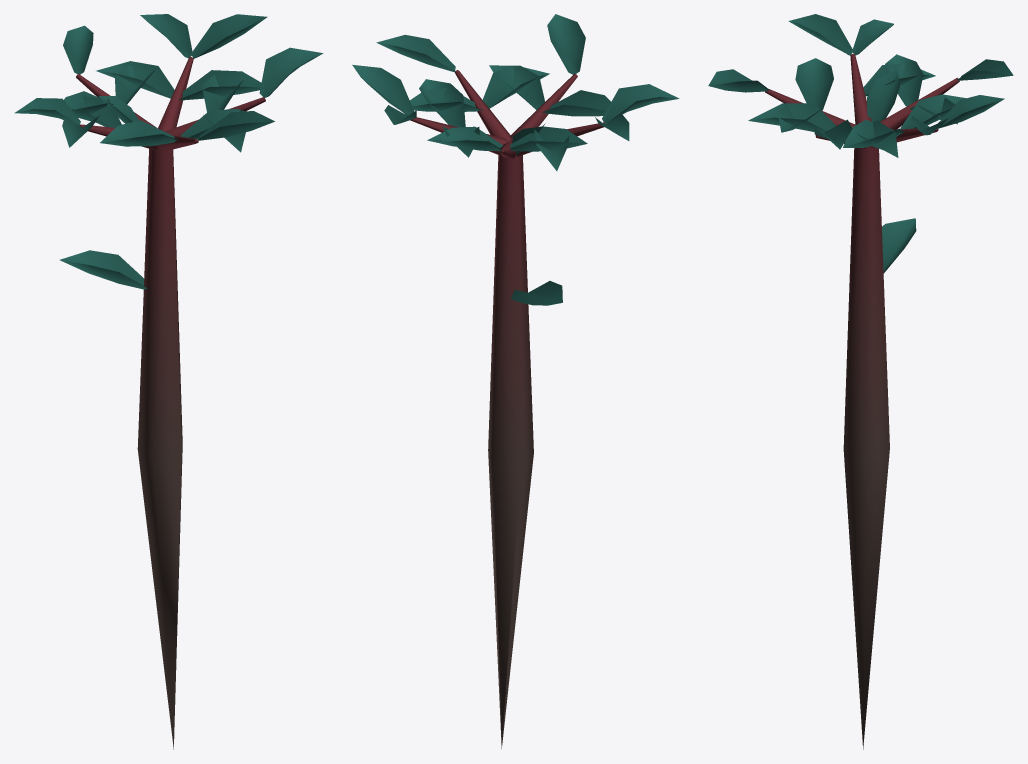
The model's file is plants-leafy-plants-tall-sprout_v4.glb.
The picture shows the model from 3 angles, left to right: view 1: azimuth 30°, elevation 25°; view 2: azimuth 150°, elevation 25°; view 3: azimuth 270°, elevation 25°; orthographic projection.
Parts seen in each view (by area): view 1: Tall Sprout_v4; view 2: Tall Sprout_v4; view 3: Tall Sprout_v4.
Part boxes in pixels (bbox=[...]): Tall Sprout_v4: bbox=[14, 14, 323, 749]; Tall Sprout_v4: bbox=[352, 14, 679, 748]; Tall Sprout_v4: bbox=[708, 14, 1013, 749].
Bounding box in the file's own units: 0.3467 × 0.8 × 0.3268.
